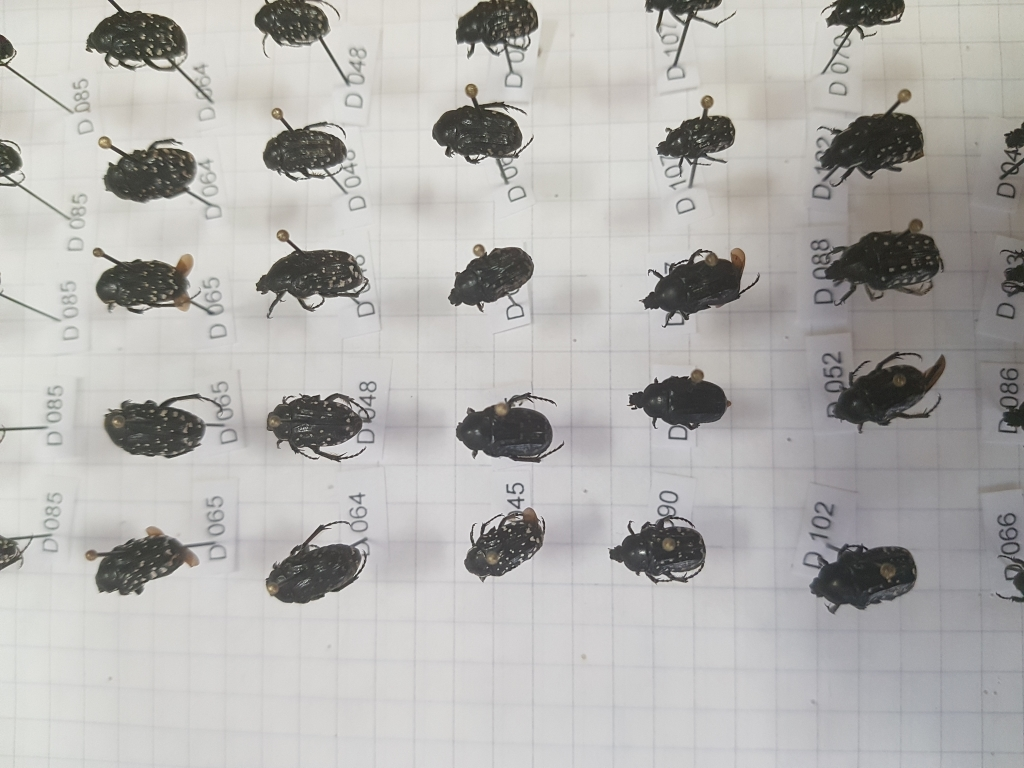Oxythyrea_cinctella: (248, 245, 371, 319), (261, 390, 367, 464), (611, 512, 715, 585), (465, 504, 547, 584)
